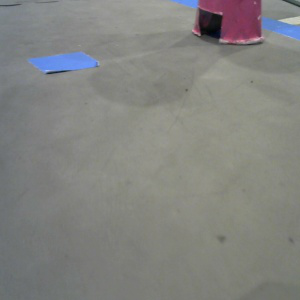right: (192, 1, 263, 44)
